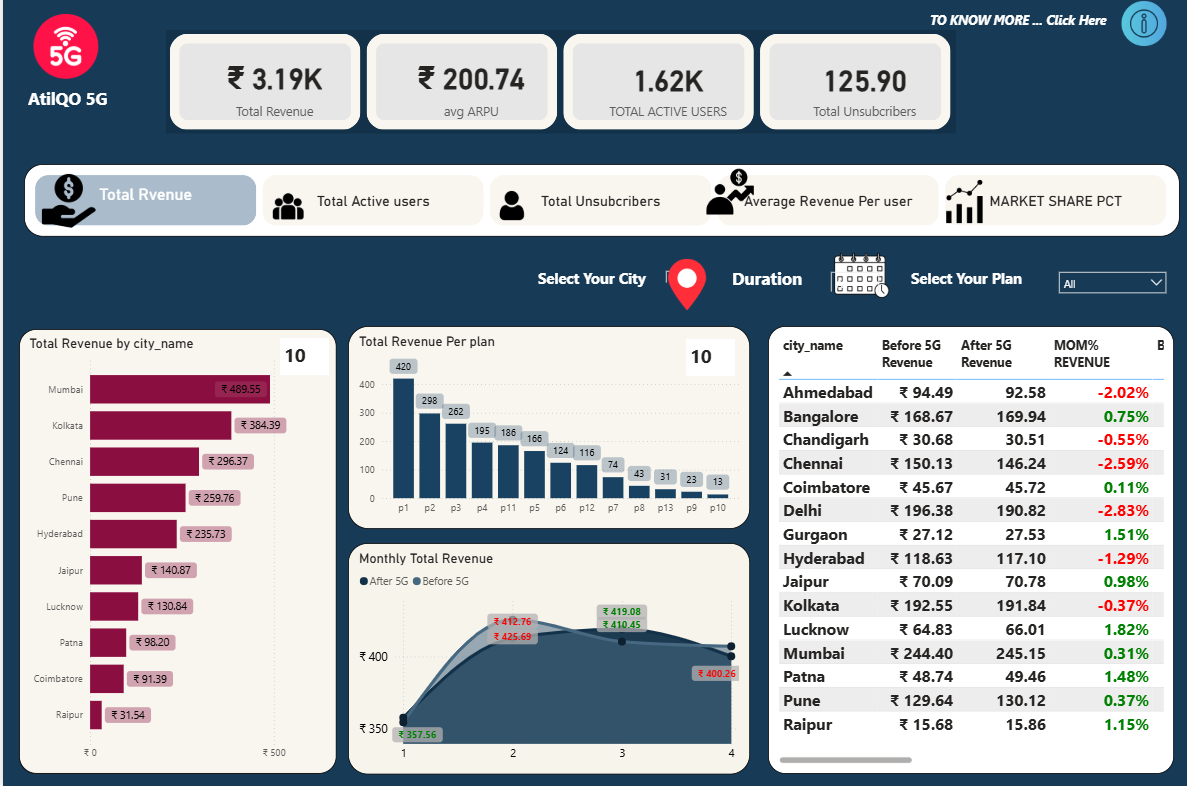

The dashboard page shown, as its layout file describes it:
{"tool":"powerbi","page":{"name":"HOME","canvas":[1500,1000],"ordinal":0},"visuals":[{"type":"barChart","fields":{"Category":["dim_cities.city_name"],"Series":["fact_plan_revenue.plans"],"Y":["Measures (2).Total Revenue"]},"box":[20.3,421.5,394.9,562],"z":0},{"type":"barChart","fields":{"Y":["Measures (2).Total Active users","Measures (2).Total Unsubcribers"]},"box":[1221.2,400.8,261.4,79.1],"z":1000},{"type":"pivotTable","fields":{"Rows":["fact_plan_revenue.plans"],"Columns":["dim_date.month_name"],"Values":["Sum(fact_plan_revenue.plan_revenue_crores)"]},"box":[958.1,690.6,530.9,294.8],"z":2000},{"type":"lineStackedColumnComboChart","title":"Total Revenue per Active User","fields":{"Category":["dim_date.month_name"],"Y2":["Measures (2).TOTAL ARPU"],"Y":["Measures (2).TOTAL ACTIVE USERS"]},"box":[967.7,421.7,521.4,259.3],"z":3000},{"type":"card","fields":{"Values":["Measures (2).Total Rvenue"]},"box":[230.4,7.6,240.5,153.2],"z":4000},{"type":"card","fields":{"Values":["Measures (2).Average Revenue Per user"]},"box":[510.2,8,267.1,153.6],"z":5000},{"type":"card","fields":{"Values":["Measures (2).Active Users oer month"]},"box":[809.4,8,269.8,153.6],"z":6000},{"type":"textbox","box":[27.1,108.3,133.8,38.2],"z":8000},{"type":"advancedSlicerVisual","fields":{"Values":["Parameter.Parameter"]},"box":[26.6,211.4,1463.3,92.4],"z":9000},{"type":"image","box":[20.3,219,125.3,78.5],"z":10000},{"type":"image","box":[873.5,211.6,94.2,69.6],"z":11000},{"type":"image","box":[612.7,240.2,62.1,47.4],"z":12000},{"type":"image","box":[321.9,240.2,78.4,49],"z":13000},{"type":"lineChart","title":"Monthly Total Revenue","fields":{"Category":["dim_date.month_name"],"Y":["Measures (2).Total Revenue"]},"box":[436.8,690.6,509.1,293.4],"z":14000},{"type":"clusteredColumnChart","title":"Total Revenue Per plan","fields":{"Category":["fact_plan_revenue.plans"],"Y":["Sum(fact_plan_revenue.plan_revenue_crores)"],"Series":["dim_date.before/after_5g"]},"box":[429.9,425.8,528.2,255.2],"z":15000},{"type":"textbox","box":[881.6,448.8,57.4,60.1],"z":16000},{"type":"image","box":[27.1,15.9,106.7,92.4],"z":18000},{"type":"slicer","fields":{"Values":["fact_plan_revenue.plans"]},"box":[1326.4,337.6,156.1,47.8],"z":19000},{"type":"textbox","box":[1144.9,337.6,156.1,47.8],"z":20000},{"type":"image","box":[1015.9,304.1,140.1,97.1],"z":21000},{"type":"textbox","box":[917.2,318.5,121,66.9],"z":22000},{"type":"slicer","fields":{"Values":["dim_date.before/after_5g"]},"box":[1038.2,337.6,81.2,35],"z":23000},{"type":"textbox","box":[1168.8,14.3,264.3,36.6],"z":24000},{"type":"image","box":[1390.1,0,109.9,66.9],"z":25000},{"type":"barChart","fields":{"Category":["dim_cities.city_name"],"Y":["Measures (2).Total Revenue"]},"box":[20.3,420.3,402.5,563.3],"z":26000},{"type":"textbox","box":[350.6,431.6,62,46.8],"z":27000},{"type":"image","box":[1156.9,222.2,120.9,71.9],"z":28000},{"type":"clusteredColumnChart","title":"Total Revenue Per plan","fields":{"Category":["fact_plan_revenue.plans"],"Y":["Sum(fact_plan_revenue.plan_revenue_crores)"]},"box":[429.1,425.3,529.1,255.7],"z":29000}]}

Visuals, with their boxes in screenshot pixels (x1, y1, x2, y2), scaled from the page's 1500x1000 canvas onto the 1187x786 screenshot:
barChart - dim_cities.city_name x fact_plan_revenue.plans: pyautogui.locateOnScreen(16, 331, 329, 773)
barChart - Measures (2).Total Active users x Measures (2).Total Unsubcribers: pyautogui.locateOnScreen(966, 315, 1173, 377)
pivotTable - fact_plan_revenue.plans x dim_date.month_name: pyautogui.locateOnScreen(758, 543, 1178, 775)
"Total Revenue per Active User" lineStackedColumnComboChart: pyautogui.locateOnScreen(766, 331, 1178, 535)
card - Measures (2).Total Rvenue: pyautogui.locateOnScreen(182, 6, 373, 126)
card - Measures (2).Average Revenue Per user: pyautogui.locateOnScreen(404, 6, 615, 127)
card - Measures (2).Active Users oer month: pyautogui.locateOnScreen(641, 6, 854, 127)
textbox: pyautogui.locateOnScreen(21, 85, 127, 115)
advancedSlicerVisual - Parameter.Parameter: pyautogui.locateOnScreen(21, 166, 1179, 239)
image: pyautogui.locateOnScreen(16, 172, 115, 234)
image: pyautogui.locateOnScreen(691, 166, 766, 221)
image: pyautogui.locateOnScreen(485, 189, 534, 226)
image: pyautogui.locateOnScreen(255, 189, 317, 227)
"Monthly Total Revenue" lineChart: pyautogui.locateOnScreen(346, 543, 749, 773)
"Total Revenue Per plan" clusteredColumnChart: pyautogui.locateOnScreen(340, 335, 758, 535)
textbox: pyautogui.locateOnScreen(698, 353, 743, 400)
image: pyautogui.locateOnScreen(21, 12, 106, 85)
slicer - fact_plan_revenue.plans: pyautogui.locateOnScreen(1050, 265, 1173, 303)
textbox: pyautogui.locateOnScreen(906, 265, 1030, 303)
image: pyautogui.locateOnScreen(804, 239, 915, 315)
textbox: pyautogui.locateOnScreen(726, 250, 822, 303)
slicer - dim_date.before/after_5g: pyautogui.locateOnScreen(822, 265, 886, 293)
textbox: pyautogui.locateOnScreen(925, 11, 1134, 40)
image: pyautogui.locateOnScreen(1100, 0, 1186, 53)
barChart - dim_cities.city_name x Measures (2).Total Revenue: pyautogui.locateOnScreen(16, 330, 335, 773)
textbox: pyautogui.locateOnScreen(277, 339, 327, 376)
image: pyautogui.locateOnScreen(915, 175, 1011, 231)
"Total Revenue Per plan" clusteredColumnChart: pyautogui.locateOnScreen(340, 334, 758, 535)
